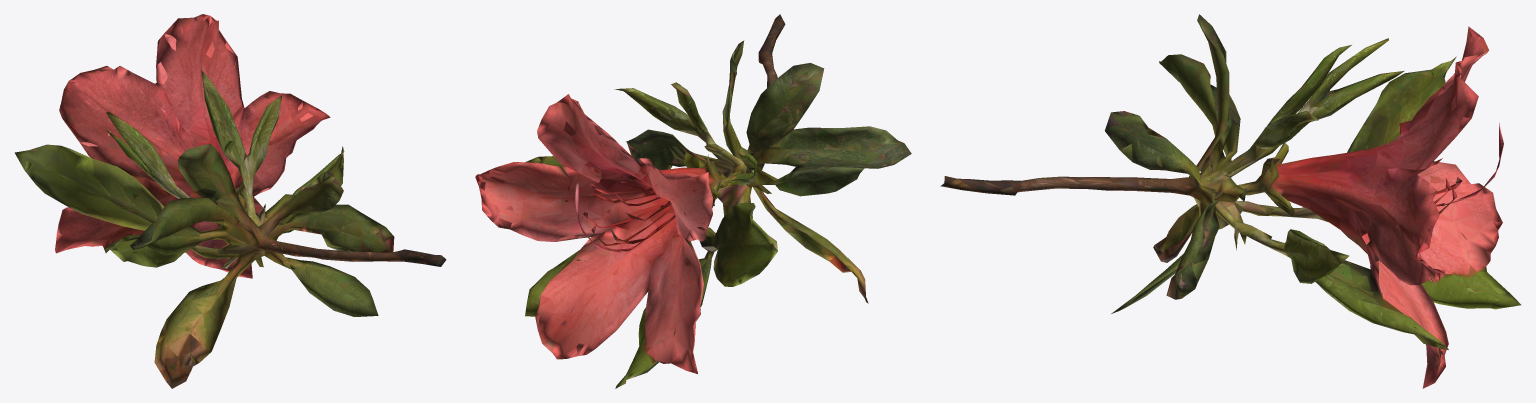
The model's file is red_azalea_lod0.glb.
3 renders of one model, left to right at view 1: azimuth 30°, elevation 25°; view 2: azimuth 150°, elevation 25°; view 3: azimuth 270°, elevation 25°, orthographic. The views are drawn at different scales.
Visible parts, largest first — view 1: AzaleaSprig; view 2: AzaleaSprig; view 3: AzaleaSprig.
Part boxes in pixels (x1,y1,x2,y2): AzaleaSprig: [15, 14, 446, 388]; AzaleaSprig: [475, 14, 911, 388]; AzaleaSprig: [940, 14, 1520, 388].
Size of the model in its own units: 0.0858 by 0.0704 by 0.1197.
Materials: 2 (2 with a texture image).
